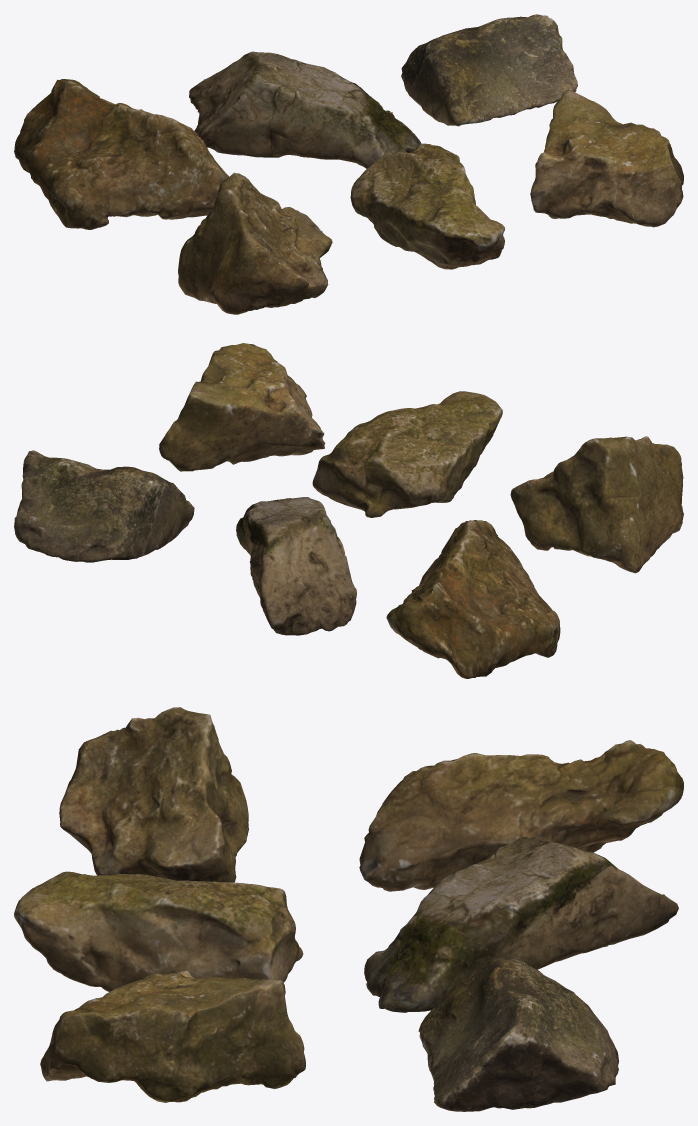
The model's file is moss-rocks.glb.
The picture shows the model from 3 angles, top to bottom: view 1: azimuth 30°, elevation 25°; view 2: azimuth 150°, elevation 25°; view 3: azimuth 270°, elevation 25°; orthographic projection. The views are drawn at different scales.
Visible parts, largest first — view 1: rock_moss_set_01_rock01, rock_moss_set_01_rock02, rock_moss_set_01_rock06, rock_moss_set_01_rock04, rock_moss_set_01_rock03, rock_moss_set_01_rock05; view 2: rock_moss_set_01_rock04, rock_moss_set_01_rock01, rock_moss_set_01_rock05, rock_moss_set_01_rock03, rock_moss_set_01_rock06, rock_moss_set_01_rock02; view 3: rock_moss_set_01_rock01, rock_moss_set_01_rock02, rock_moss_set_01_rock05, rock_moss_set_01_rock06, rock_moss_set_01_rock04, rock_moss_set_01_rock03.
Part boxes in pixels (<box>): rock_moss_set_01_rock01: <box>14,79,229,229</box>; rock_moss_set_01_rock02: <box>189,51,421,168</box>; rock_moss_set_01_rock06: <box>530,89,683,227</box>; rock_moss_set_01_rock04: <box>178,172,332,314</box>; rock_moss_set_01_rock03: <box>401,14,577,126</box>; rock_moss_set_01_rock05: <box>350,143,504,269</box>; rock_moss_set_01_rock04: <box>510,436,683,573</box>; rock_moss_set_01_rock01: <box>386,520,560,678</box>; rock_moss_set_01_rock05: <box>312,391,502,517</box>; rock_moss_set_01_rock03: <box>14,450,194,562</box>; rock_moss_set_01_rock06: <box>159,343,325,471</box>; rock_moss_set_01_rock02: <box>236,497,356,635</box>; rock_moss_set_01_rock01: <box>359,740,683,891</box>; rock_moss_set_01_rock02: <box>364,836,678,1012</box>; rock_moss_set_01_rock05: <box>14,871,303,991</box>; rock_moss_set_01_rock06: <box>40,970,305,1102</box>; rock_moss_set_01_rock04: <box>59,707,248,882</box>; rock_moss_set_01_rock03: <box>418,956,618,1111</box>.
Size of the model in its own units: 8 by 1.77 by 6.94.
1 material, 1 textured.
